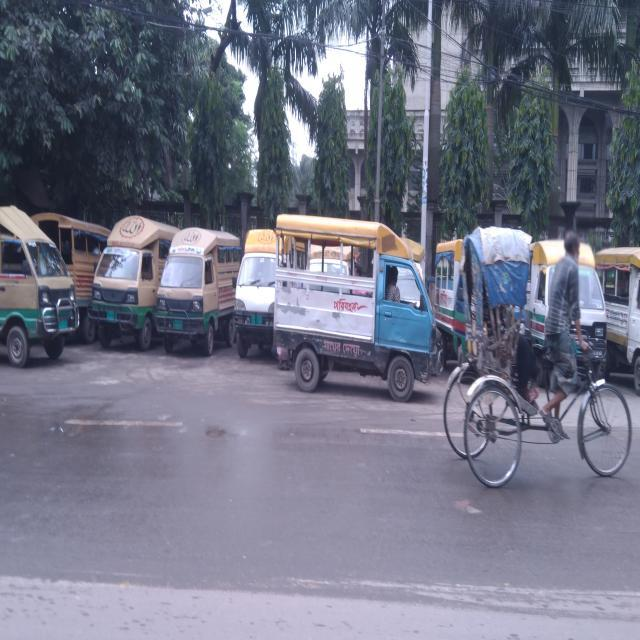Leguna: (251, 195, 457, 408), (426, 222, 544, 383), (28, 197, 147, 350), (88, 198, 196, 365), (1, 197, 93, 387), (518, 222, 617, 393), (158, 208, 250, 371), (225, 223, 306, 380), (594, 224, 640, 414)
Rickshaw: (434, 203, 640, 510)
